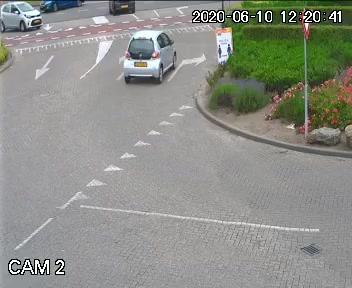car: (113, 18, 169, 90), (0, 2, 44, 30), (39, 0, 88, 10)
